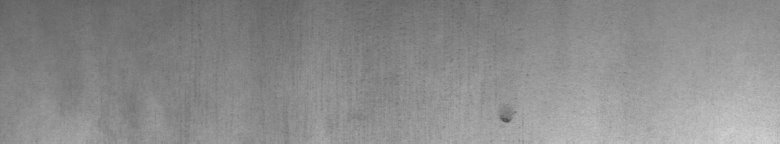fi: (496, 111, 517, 132)
